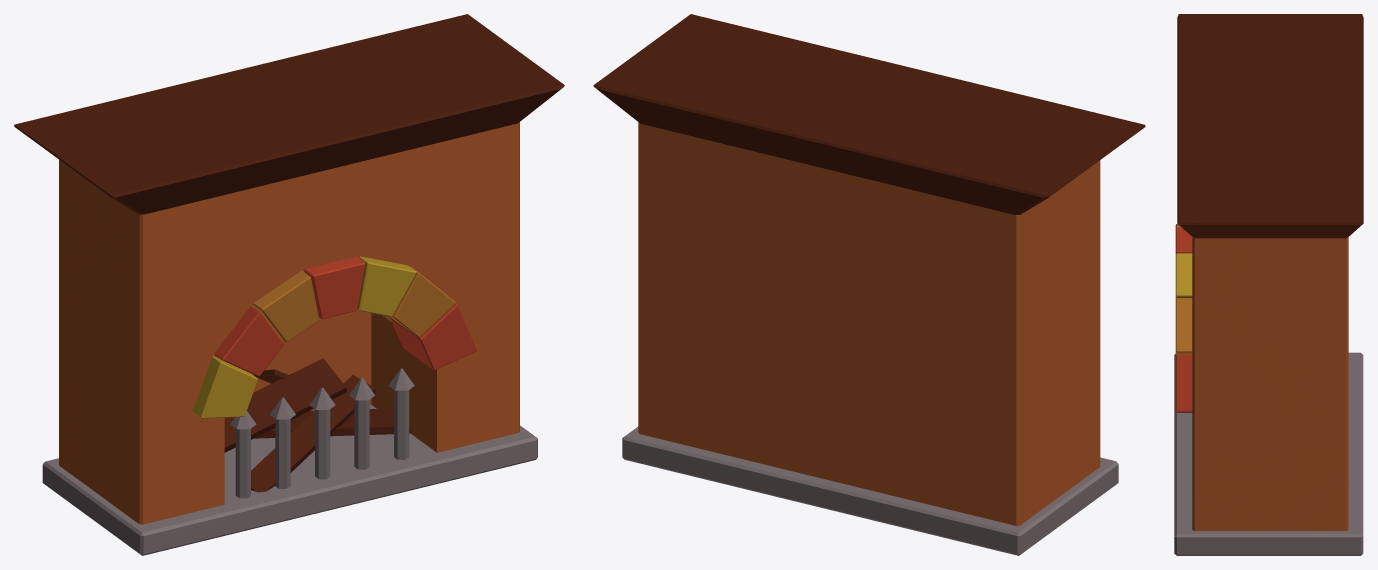
File: fireplace.glb
The picture shows the model from 3 angles, left to right: view 1: azimuth 30°, elevation 25°; view 2: azimuth 150°, elevation 25°; view 3: azimuth 270°, elevation 25°; orthographic projection. The views are drawn at different scales.
Parts seen in each view (by area): view 1: Fireplace1; view 2: Fireplace1; view 3: Fireplace1.
Boxes of the visible parts, x1,y1,x2,y2 form: Fireplace1: (14,14,564,555); Fireplace1: (593,14,1145,555); Fireplace1: (1174,14,1363,555).
Size of the model in its own units: 1.94 by 1.5 by 0.7406.
2 materials, 2 textured.
